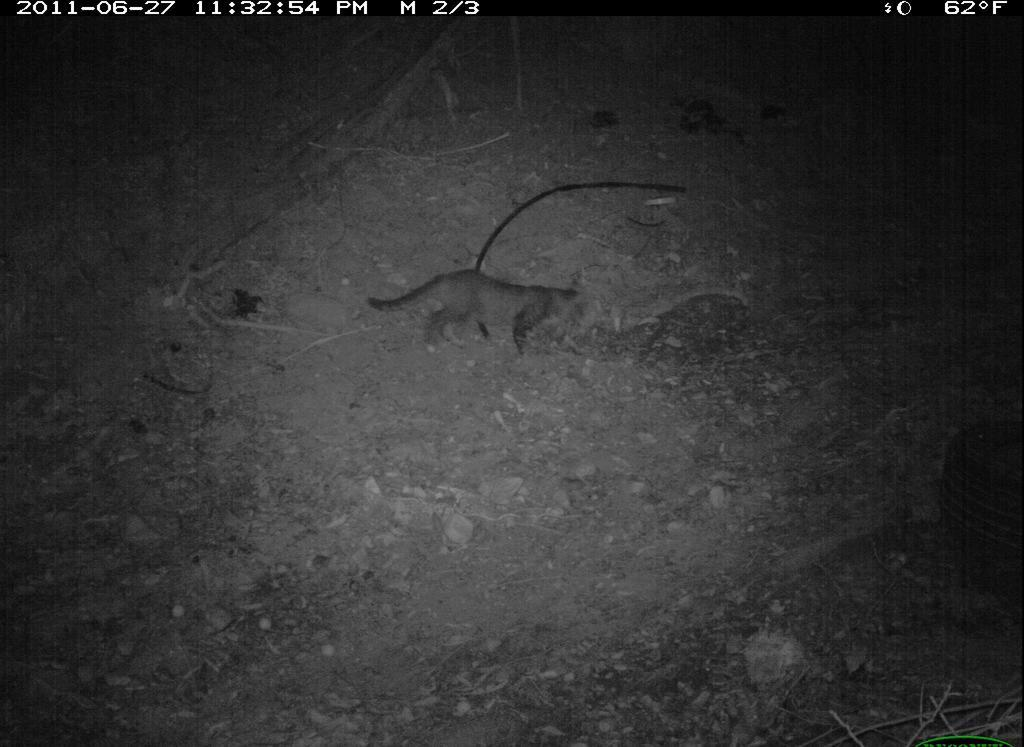cat: (364, 267, 593, 367)
